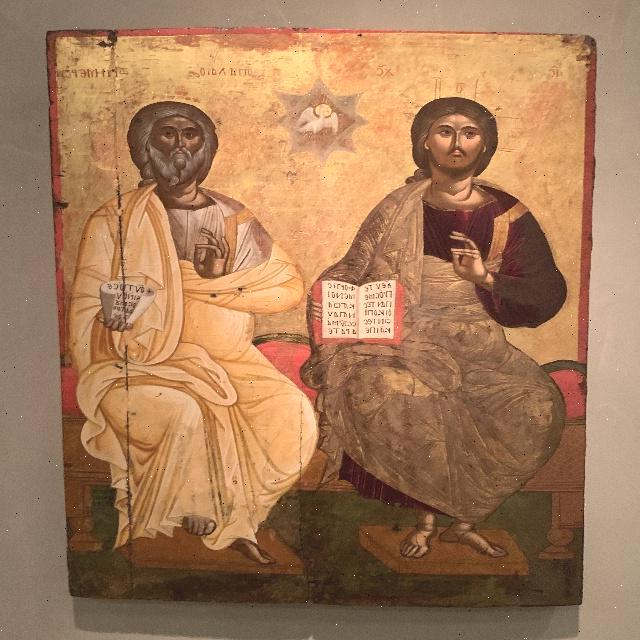aura: (391, 74, 528, 189)
book: (310, 277, 405, 345)
christ: (307, 69, 572, 568)
dove: (278, 80, 361, 169)
father: (68, 99, 306, 557)
scroll: (94, 286, 159, 332)
